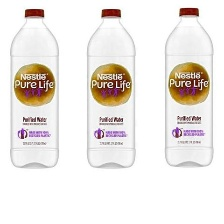bottle: (80, 6, 140, 175), (160, 2, 219, 171), (6, 5, 64, 172)
